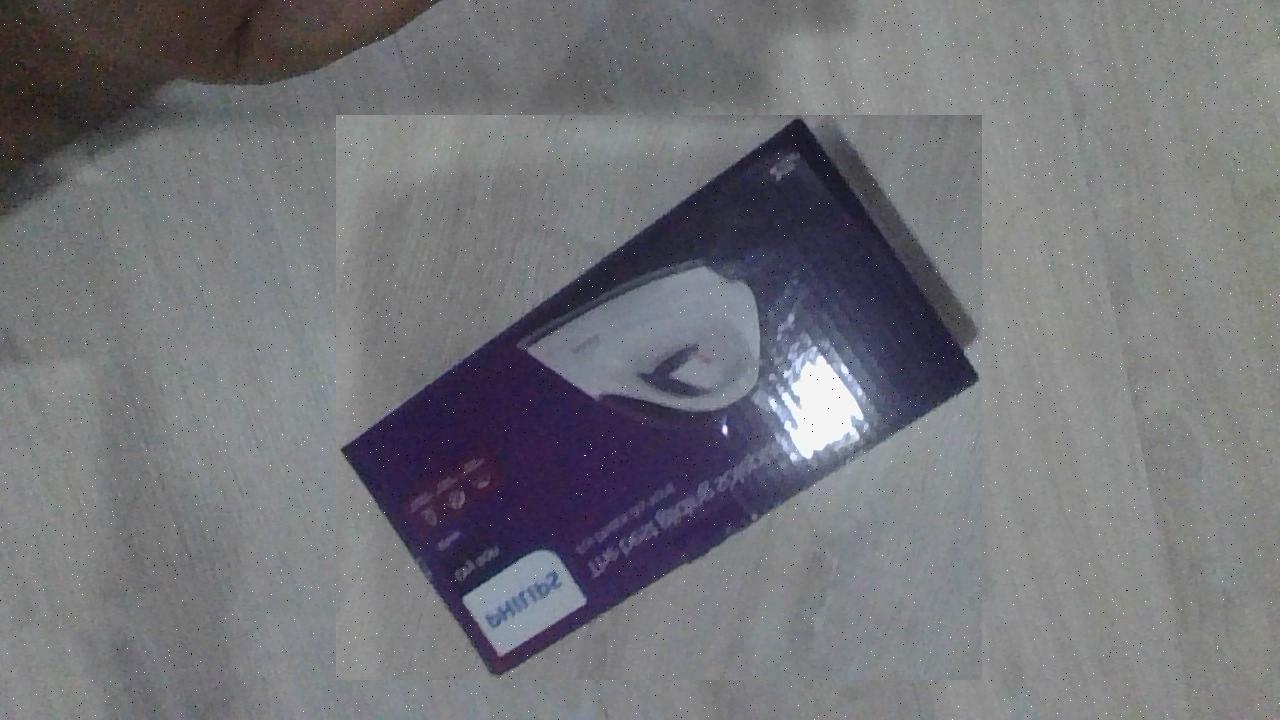IRON: (336, 115, 982, 680)
